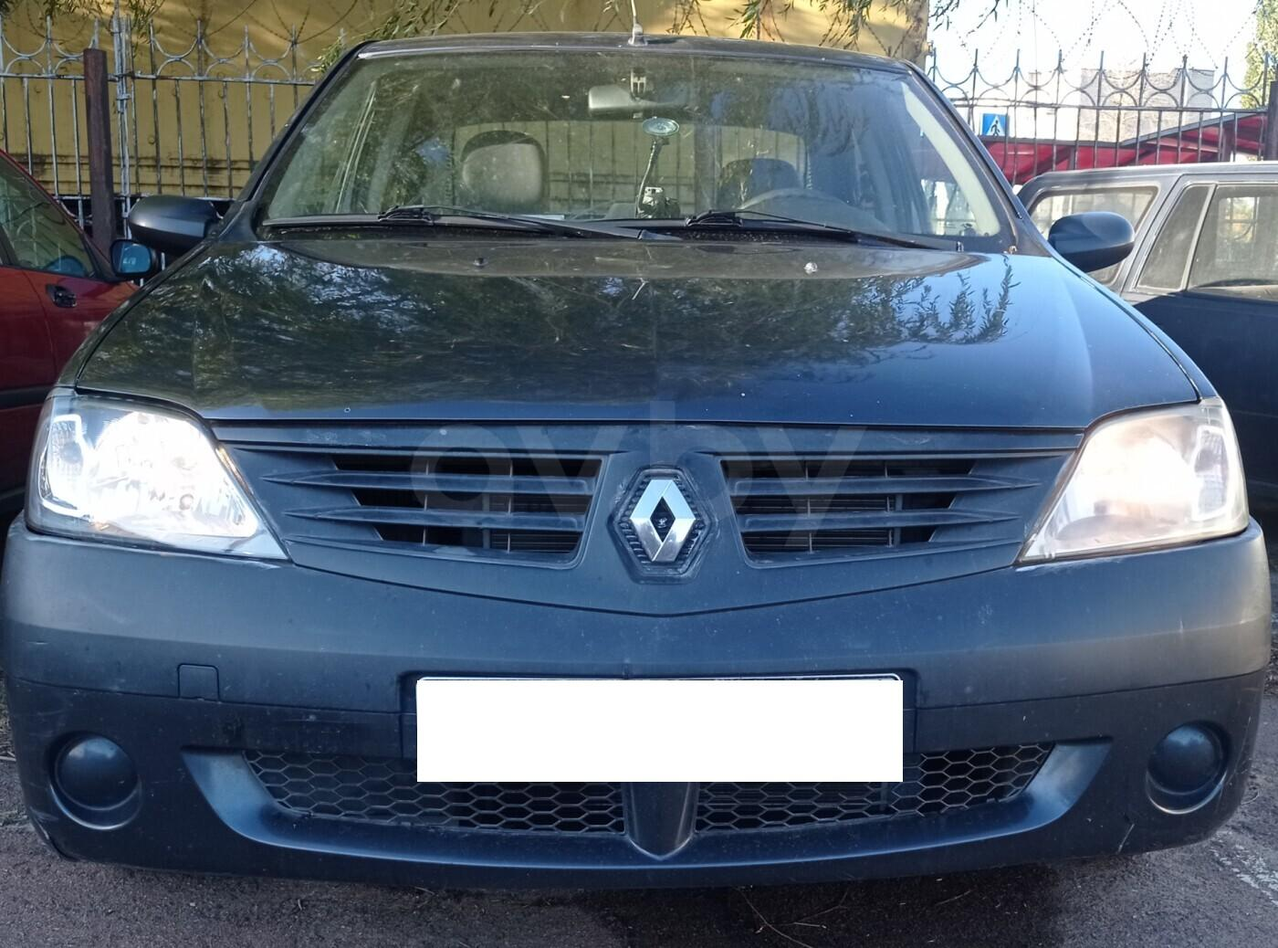Logan_2004-2009: (0, 18, 1278, 942)
